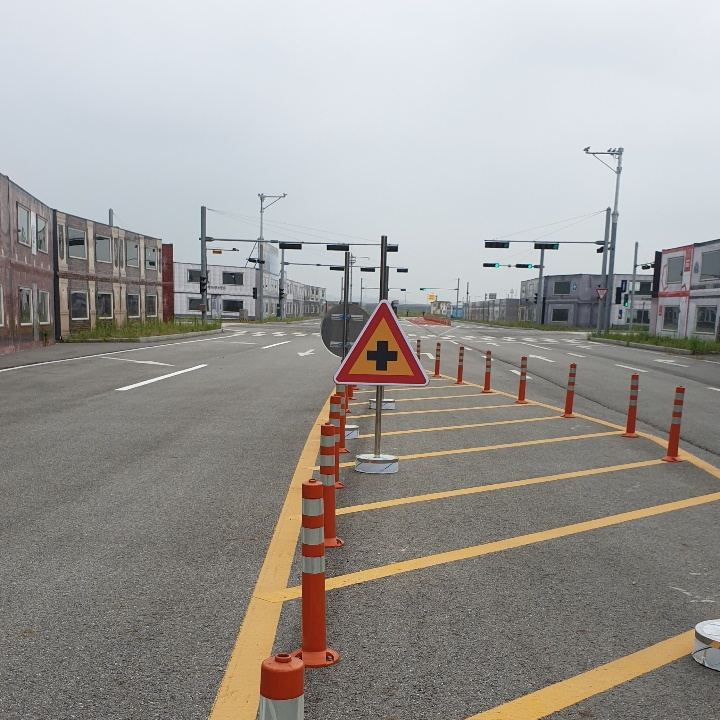inter: (359, 334, 401, 375)
